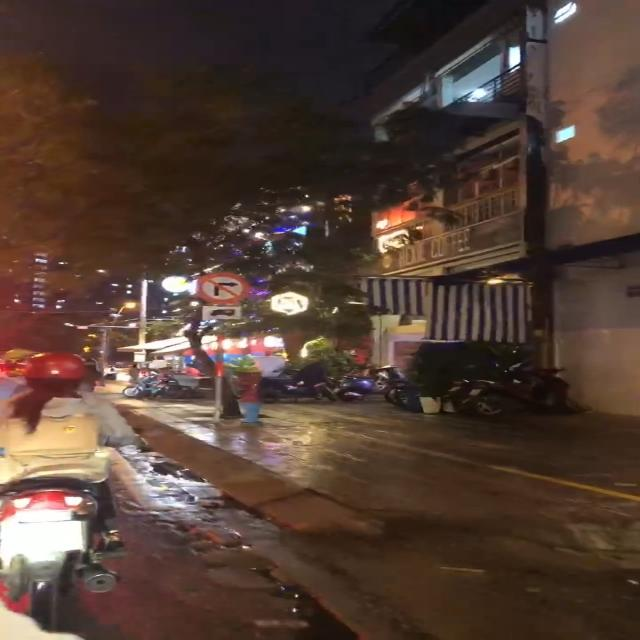Bien bao cam re phai: (190, 268, 250, 306)
